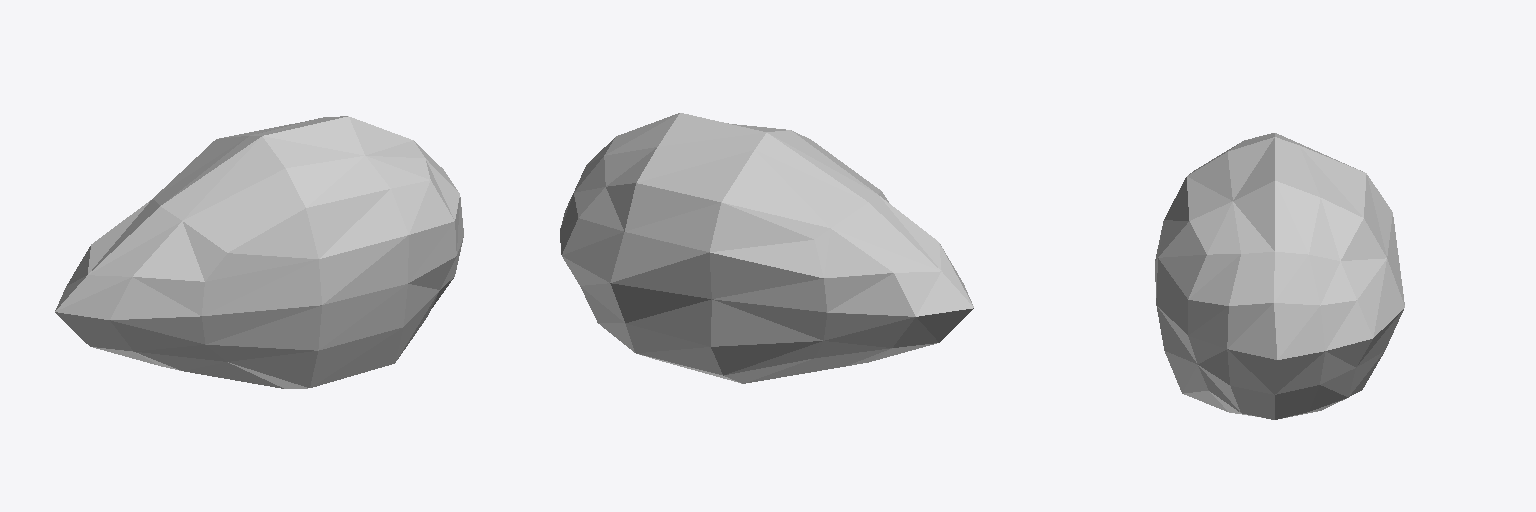
File: Meteor.obj
3 views of the same model, side by side, from view 1: azimuth 30°, elevation 25°; view 2: azimuth 150°, elevation 25°; view 3: azimuth 270°, elevation 25° (orthographic).
Visible parts, largest first — view 1: Meteor; view 2: Meteor; view 3: Meteor.
Part boxes in pixels (x1,y1,x2,y2): Meteor: (55, 116, 463, 388); Meteor: (560, 113, 973, 383); Meteor: (1155, 133, 1404, 419).
Bounding box in the file's own units: 16.23 × 9.2 × 8.63.